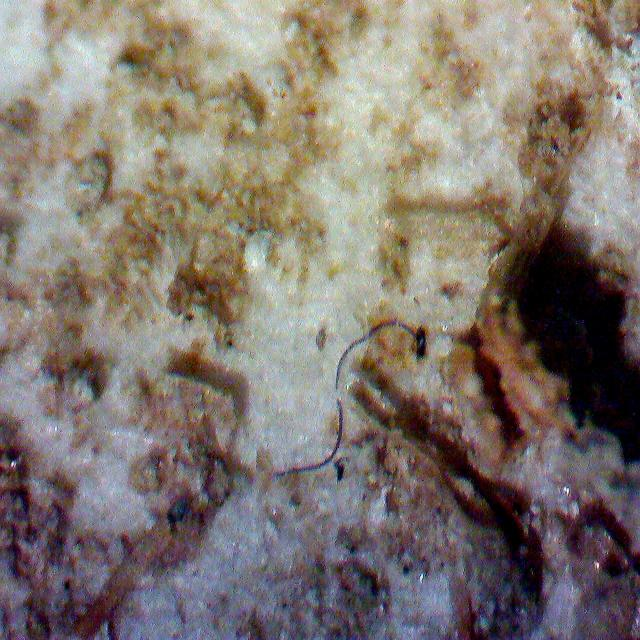microplastic: (264, 303, 420, 499)
